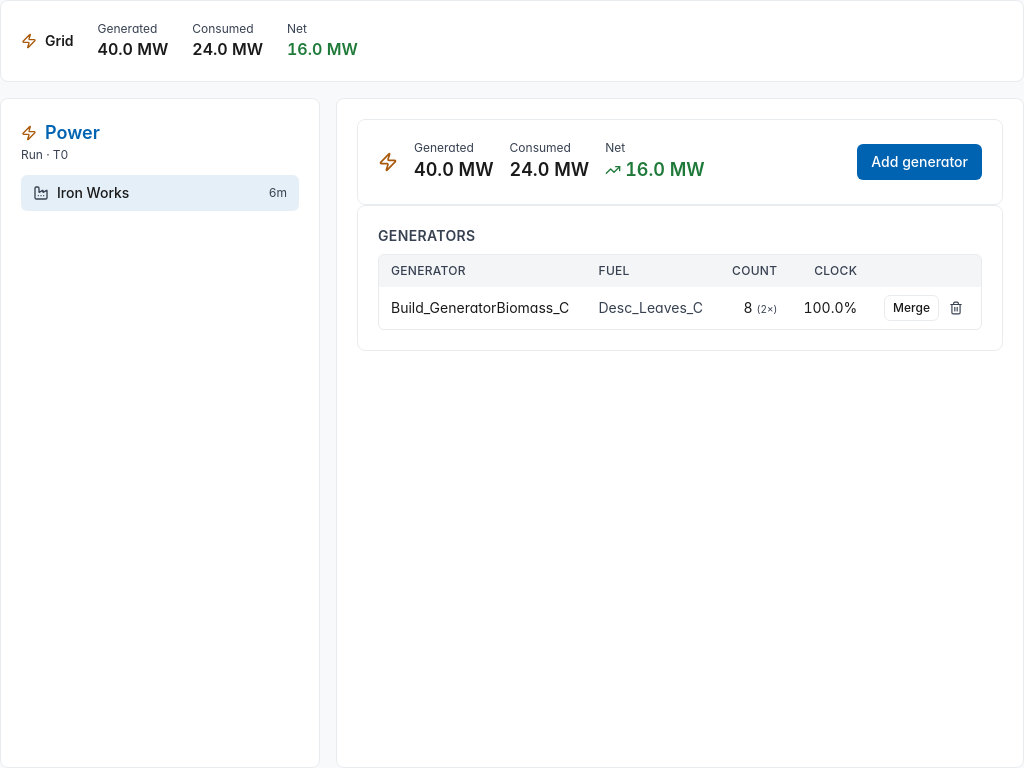
Test: <PowerView /> › keeps the duplicate rows when the merge's update fails, instead of deleting them anyway
Check: the text "8" is shown, box x1=744 y1=299 x2=753 y2=316
Click the button "Merge". click: (912, 308)
box: x1=884 y1=295 x2=939 y2=321
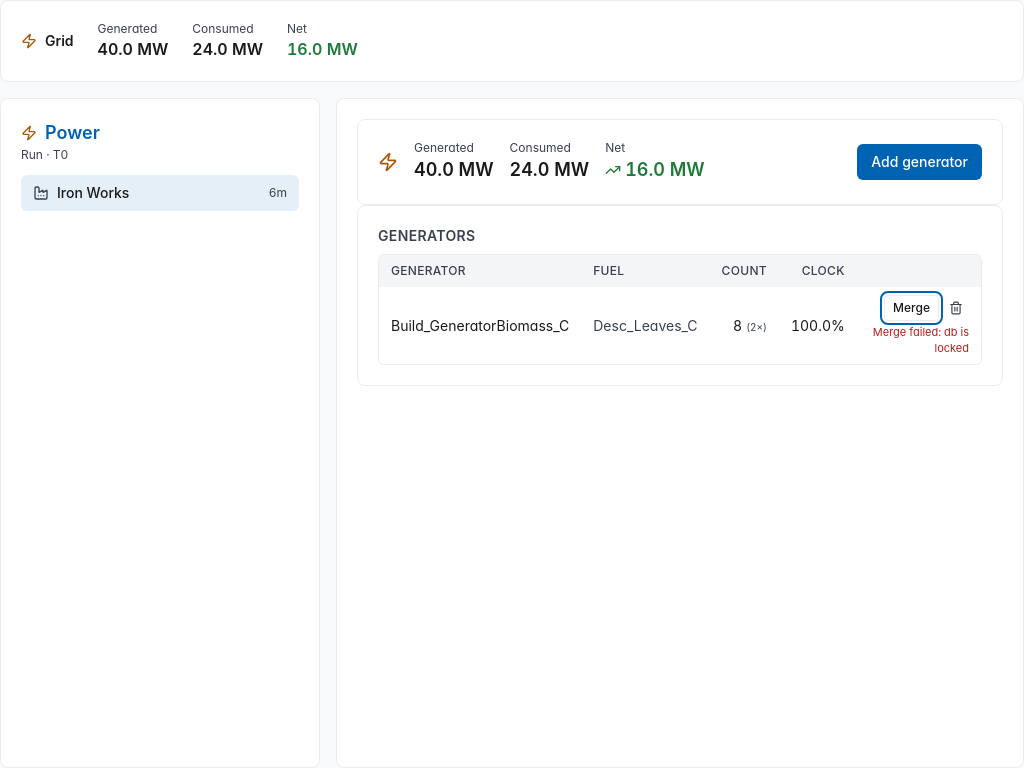
Check: the message reads "Merge failed: db is locked", box x1=873 y1=325 x2=969 y2=355
